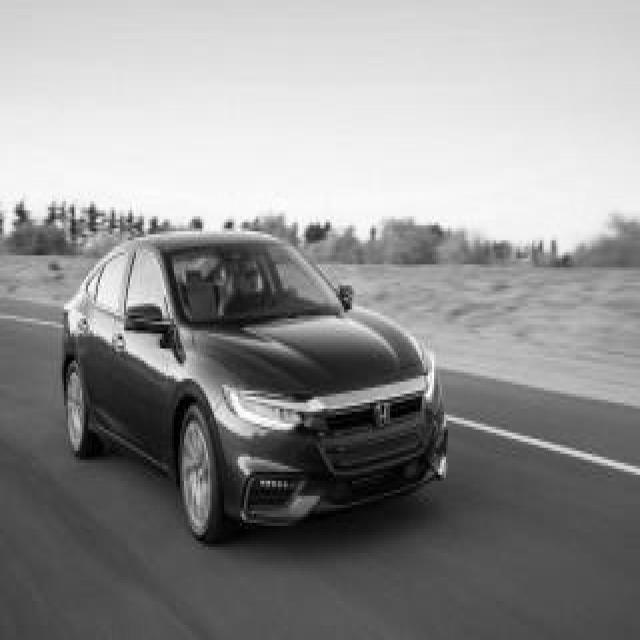Car: (61, 235, 448, 540)
